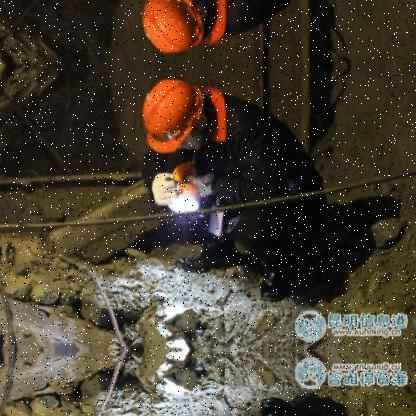Helmet: (142, 69, 230, 164), (134, 0, 226, 48)
